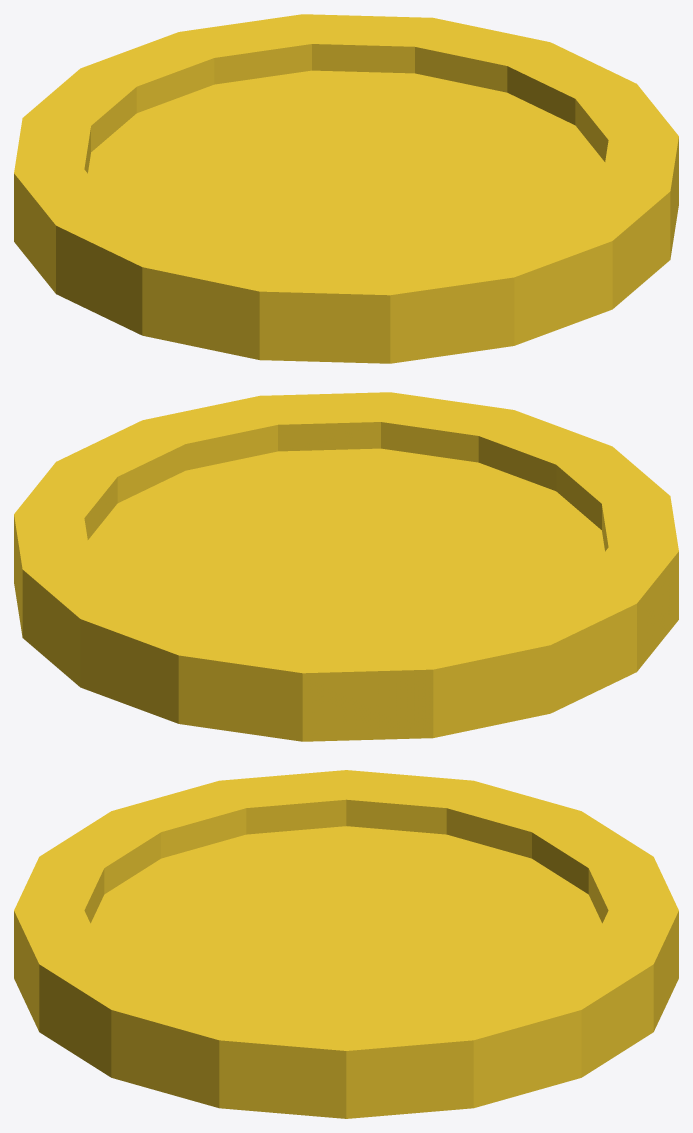
The model's file is coin01.obj.
The picture shows the model from 3 angles, top to bottom: view 1: azimuth 30°, elevation 25°; view 2: azimuth 150°, elevation 25°; view 3: azimuth 270°, elevation 25°; orthographic projection.
Visible parts, largest first — view 1: Cylinder_Cylinder.002; view 2: Cylinder_Cylinder.002; view 3: Cylinder_Cylinder.002.
Part boxes in pixels (x1,y1,x2,y2): Cylinder_Cylinder.002: (14,14,678,363); Cylinder_Cylinder.002: (14,392,678,741); Cylinder_Cylinder.002: (14,770,678,1118).
Bounding box in the file's own units: 0.04 × 0.00451 × 0.04.
